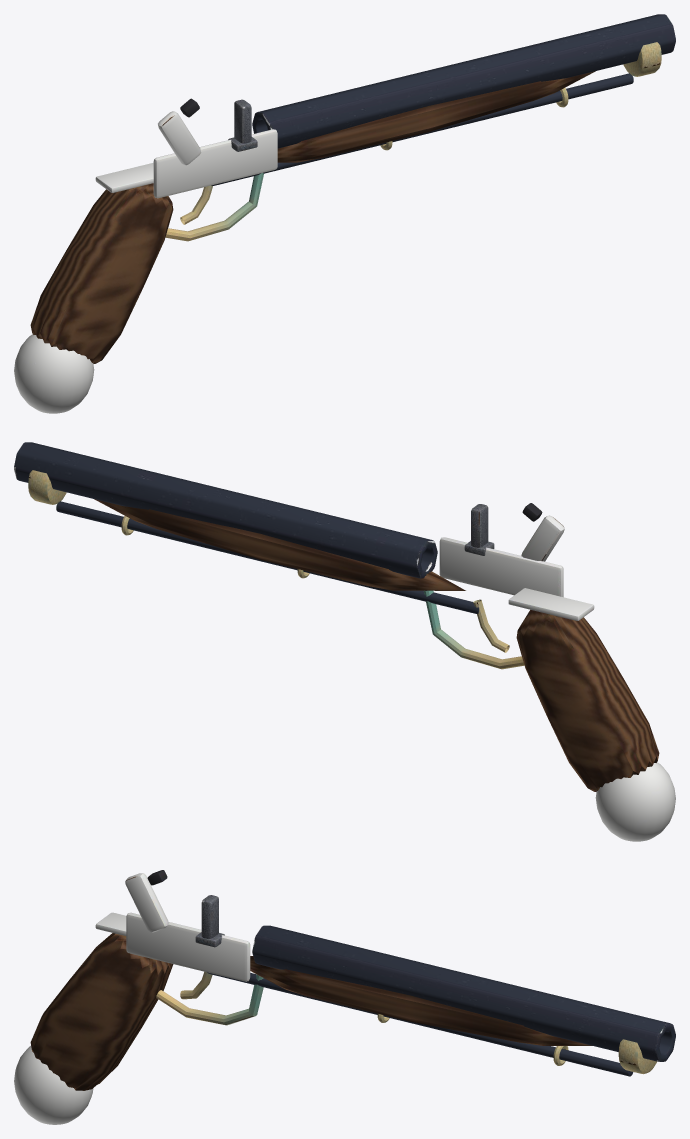
Rendered from captainpistol.glb.
3 renders of one model, top to bottom at view 1: azimuth 30°, elevation 25°; view 2: azimuth 150°, elevation 25°; view 3: azimuth 330°, elevation 25°, orthographic.
Visible parts, largest first — view 1: barrel, grip, fore_stock, lock_plate, butt_cap, ramrod, trigger_guard, cock, inlay, nose_cap, frizzen; view 2: barrel, grip, fore_stock, butt_cap, lock_plate, ramrod, inlay, trigger_guard, cock, nose_cap, frizzen; view 3: barrel, grip, fore_stock, lock_plate, butt_cap, ramrod, cock, trigger_guard, nose_cap, frizzen, inlay.
Boxes of the visible parts, left/top/right/bottom form: barrel: left=252, top=14, right=675, bottom=148; grip: left=30, top=183, right=173, bottom=363; fore_stock: left=277, top=71, right=595, bottom=162; lock_plate: left=153, top=129, right=277, bottom=198; butt_cap: left=14, top=334, right=94, bottom=413; ramrod: left=211, top=73, right=633, bottom=185; trigger_guard: left=165, top=173, right=263, bottom=241; cock: left=158, top=111, right=201, bottom=165; inlay: left=95, top=162, right=153, bottom=192; nose_cap: left=623, top=42, right=661, bottom=76; frizzen: left=234, top=99, right=251, bottom=143; barrel: left=14, top=442, right=437, bottom=578; grip: left=516, top=609, right=659, bottom=791; fore_stock: left=94, top=499, right=465, bottom=590; butt_cap: left=595, top=762, right=675, bottom=841; lock_plate: left=439, top=537, right=563, bottom=597; ramrod: left=56, top=501, right=478, bottom=613; inlay: left=508, top=588, right=594, bottom=620; trigger_guard: left=423, top=590, right=524, bottom=669; cock: left=521, top=515, right=564, bottom=561; nose_cap: left=28, top=470, right=66, bottom=504; frizzen: left=471, top=504, right=488, bottom=547; barrel: left=252, top=925, right=675, bottom=1061; grip: left=30, top=933, right=173, bottom=1090; fore_stock: left=250, top=956, right=592, bottom=1045; lock_plate: left=126, top=912, right=250, bottom=981; butt_cap: left=14, top=1046, right=93, bottom=1124; ramrod: left=207, top=972, right=633, bottom=1076; cock: left=125, top=873, right=168, bottom=932; trigger_guard: left=156, top=974, right=263, bottom=1025; nose_cap: left=618, top=1039, right=656, bottom=1074; frizzen: left=201, top=895, right=218, bottom=938; inlay: left=95, top=912, right=126, bottom=935.
Bounding box in the file's own units: 0.368 × 0.1588 × 0.04.
1 material, 1 textured.
